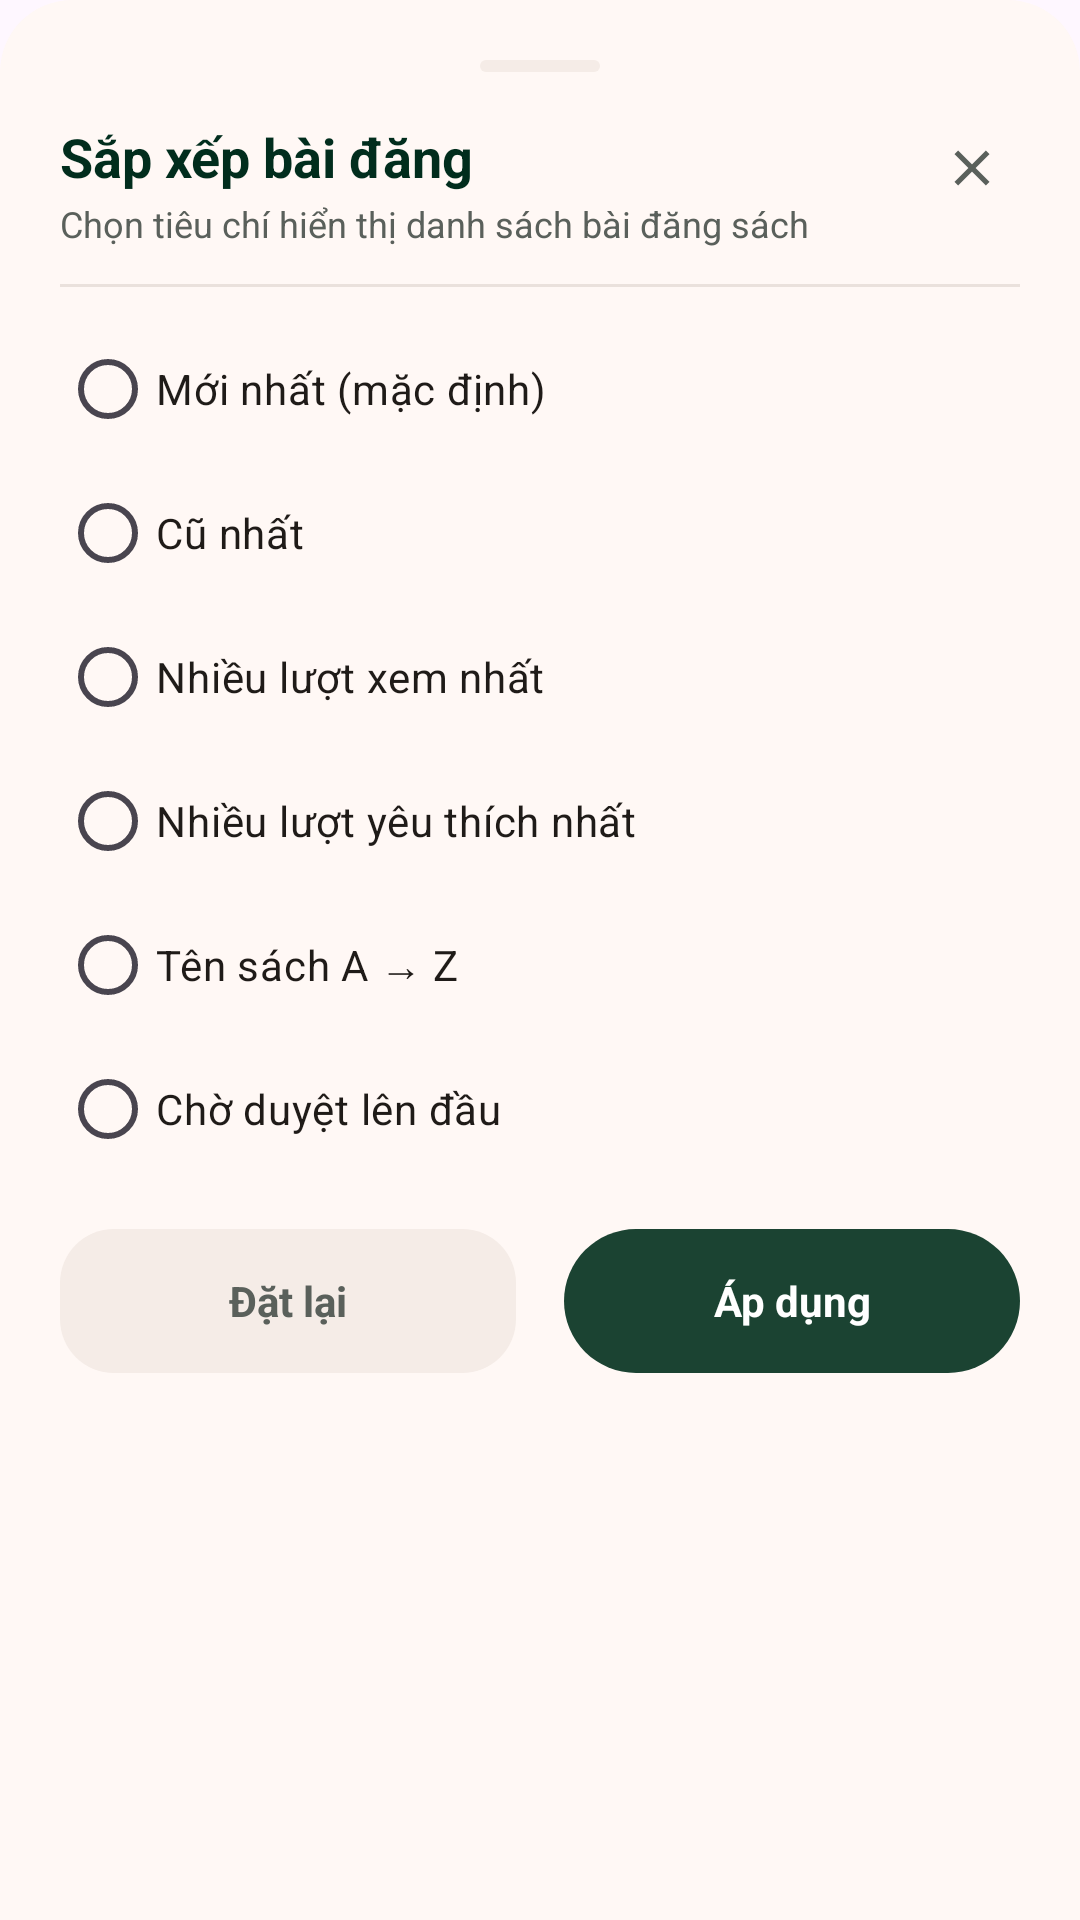

Icon bounding boxes for this 1080 × 1920 phone screenshot, format (x1, y1, x2, y2):
Đóng: (954, 150, 990, 186)
